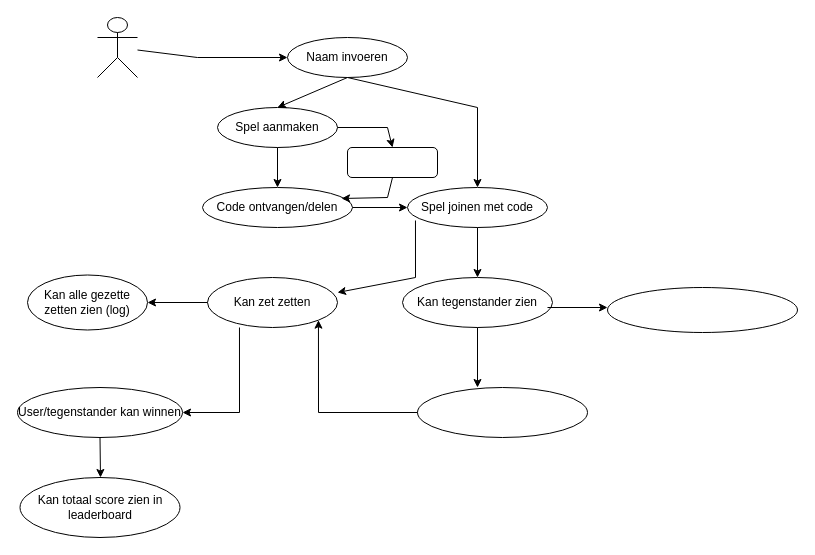
Image size: 815x555. Some labels were removed from this diagram. The shapes that lost their labels are listed below. From the top down, each one's box as (x1, y1, x2, y2) in pixels, then its label:
(96, 16, 138, 78): User
(346, 146, 438, 178): Spelmodus kiezen
(606, 286, 798, 332): Kan chatten met tegenstander
(416, 386, 588, 438): Kan zet van tegenstander zien
